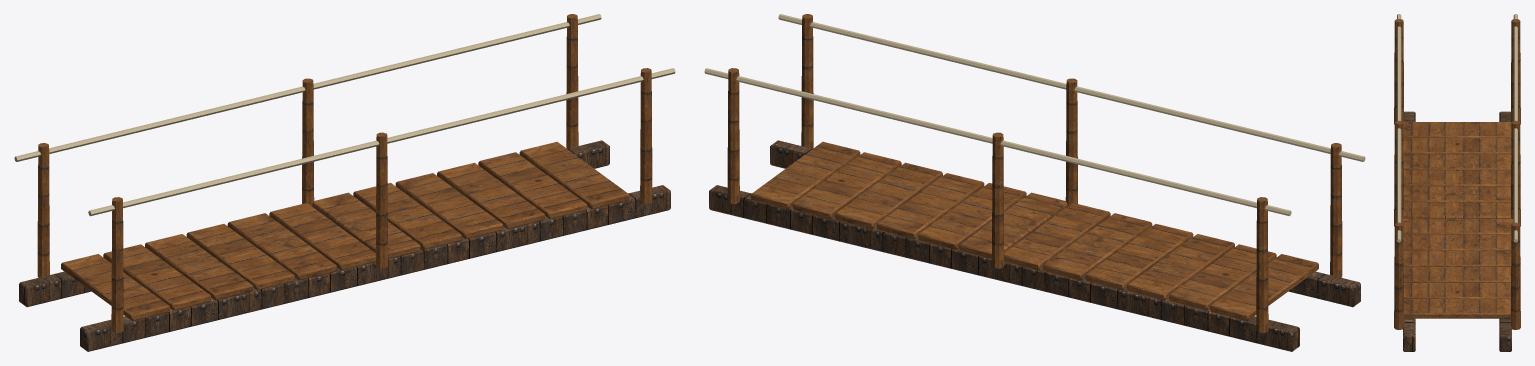
File: narrow-wooden-bridge-v01.glb
3 views of the same model, side by side, from view 1: azimuth 30°, elevation 25°; view 2: azimuth 150°, elevation 25°; view 3: azimuth 270°, elevation 25° (orthographic). The views are drawn at different scales.
Parts seen in each view (by area): view 1: narrow-wooden-bridge; view 2: narrow-wooden-bridge; view 3: narrow-wooden-bridge.
Boxes of the visible parts, x1,y1,x2,y2 form: narrow-wooden-bridge: [14, 14, 675, 351]; narrow-wooden-bridge: [704, 14, 1365, 351]; narrow-wooden-bridge: [1394, 14, 1520, 351].
Bounding box in the file's own units: 4.2 × 1.02 × 1.
3 materials, 2 textured.
